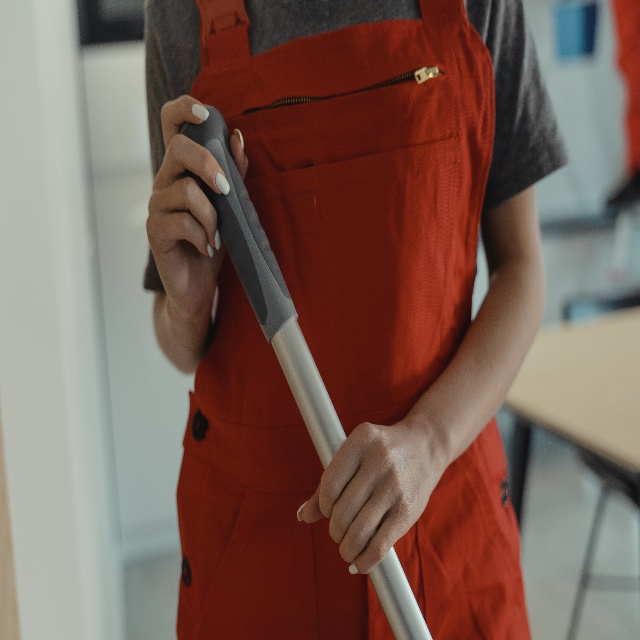Sin_guantes: (146, 94, 249, 320), (296, 421, 441, 576)
